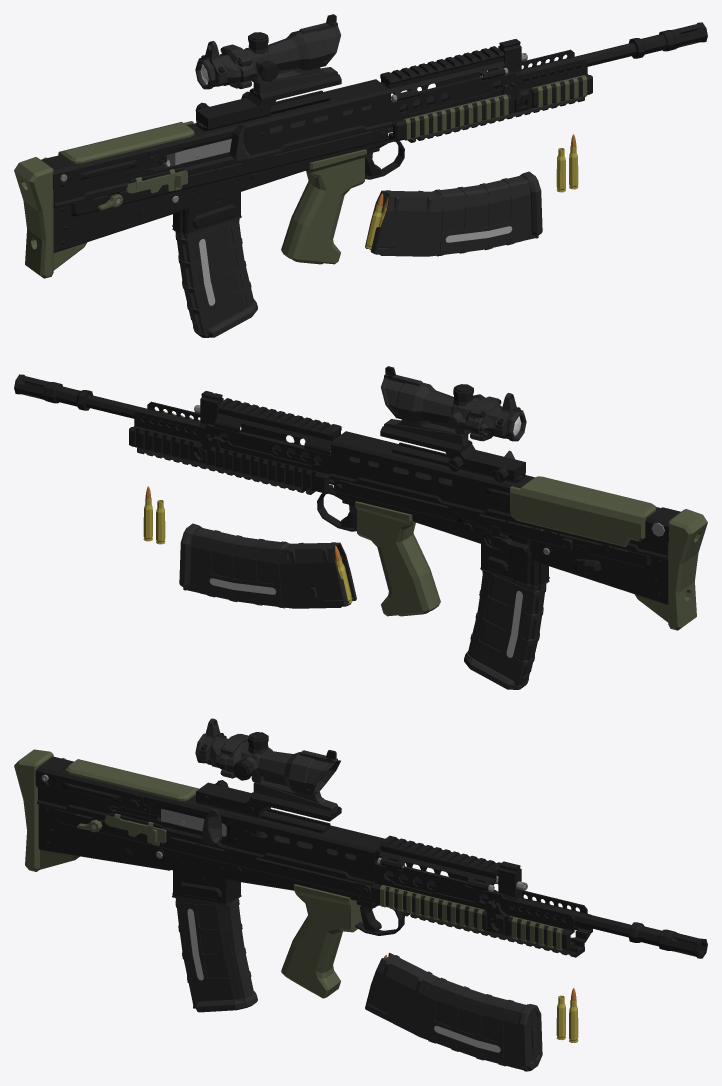
The picture shows the model from 3 angles, top to bottom: view 1: azimuth 30°, elevation 25°; view 2: azimuth 150°, elevation 25°; view 3: azimuth 330°, elevation 25°; orthographic projection.
Parts seen in each view (by area): view 1: l85a2 lower_11, l85a2 upper_17, 55645 ar15 30rnd mag (pmag)_1, l85a2 handguard_9, l85a2 acog _4, 55645 ar15 30rnd mag empty (pmag)_2, l85a2 barrel_5, l85a2 long rail cover_10, l85a2 flash hider_8, l85a2 bolt_6, l85a2 dust cover_7, l85a2 short rail cover_15; view 2: l85a2 lower_11, l85a2 upper_17, l85a2 handguard_9, 55645 ar15 30rnd mag (pmag)_1, l85a2 acog _4, 55645 ar15 30rnd mag empty (pmag)_2, l85a2 barrel_5, l85a2 flash hider_8; view 3: l85a2 lower_11, l85a2 upper_17, 55645 ar15 30rnd mag (pmag)_1, l85a2 handguard_9, l85a2 acog _4, 55645 ar15 30rnd mag empty (pmag)_2, l85a2 barrel_5, l85a2 long rail cover_10, l85a2 flash hider_8, l85a2 bolt_6, l85a2 dust cover_7, l85a2 short rail cover_15.
Boxes of the visible parts, x1,y1,x2,y2 form: l85a2 lower_11: (14,128,404,278); l85a2 upper_17: (41,79,391,207); 55645 ar15 30rnd mag (pmag)_1: (365,171,542,256); l85a2 handguard_9: (380,46,592,142); l85a2 acog _4: (195,14,341,131); 55645 ar15 30rnd mag empty (pmag)_2: (175,169,257,337); l85a2 barrel_5: (241,39,636,162); l85a2 long rail cover_10: (403,94,508,140); l85a2 flash hider_8: (628,22,707,58); l85a2 bolt_6: (163,123,250,167); l85a2 dust cover_7: (126,167,187,193); l85a2 short rail cover_15: (530,75,587,108); l85a2 lower_11: (317,480,707,630); l85a2 upper_17: (330,431,680,559); l85a2 handguard_9: (129,398,341,494); 55645 ar15 30rnd mag (pmag)_1: (179,523,356,608); l85a2 acog _4: (380,366,526,483); 55645 ar15 30rnd mag empty (pmag)_2: (464,521,546,689); l85a2 barrel_5: (85,391,480,514); l85a2 flash hider_8: (14,374,93,410); l85a2 lower_11: (14,749,404,998); l85a2 upper_17: (35,756,384,885); 55645 ar15 30rnd mag (pmag)_1: (365,952,542,1071); l85a2 handguard_9: (371,835,592,957); l85a2 acog _4: (195,718,341,821); 55645 ar15 30rnd mag empty (pmag)_2: (175,843,257,1012); l85a2 barrel_5: (251,830,631,937); l85a2 long rail cover_10: (380,885,485,931); l85a2 flash hider_8: (628,922,707,958); l85a2 bolt_6: (161,808,226,845); l85a2 dust cover_7: (104,812,166,845); l85a2 short rail cover_15: (509,916,563,950).
Bounding box in the file's own units: 7.7 × 3.14 × 0.5952.
